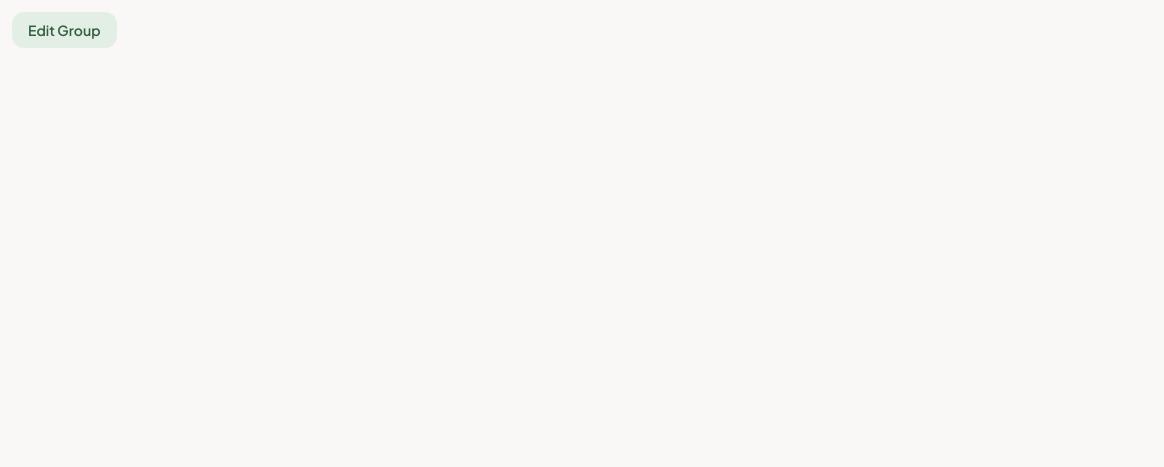
Scenario: Group metadata editing › retains editor and displays backend errors
Step 1. Click the button "Edit Group" → click(64, 30), box [12, 12, 116, 48]
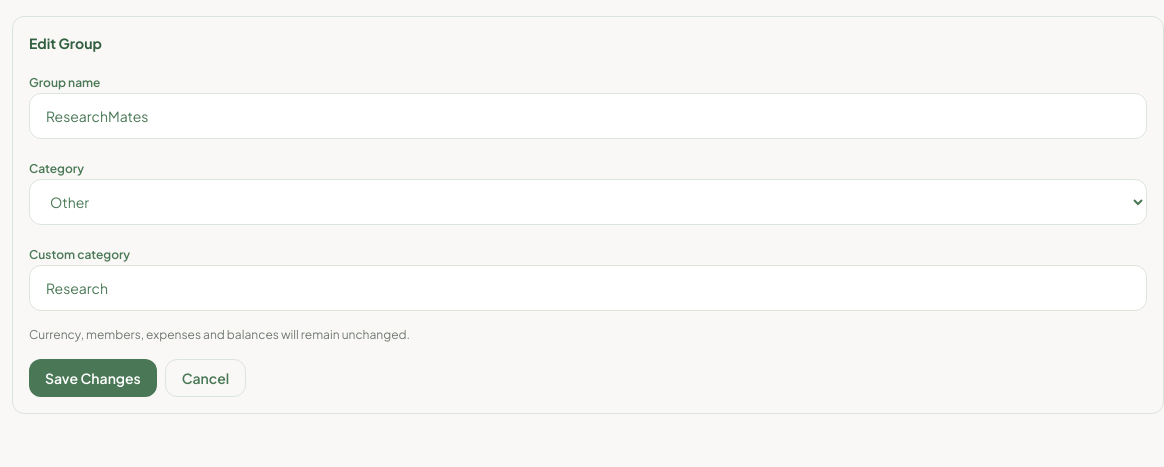
Step 2. Click the button "Save Changes" → click(93, 378), box [29, 359, 157, 397]
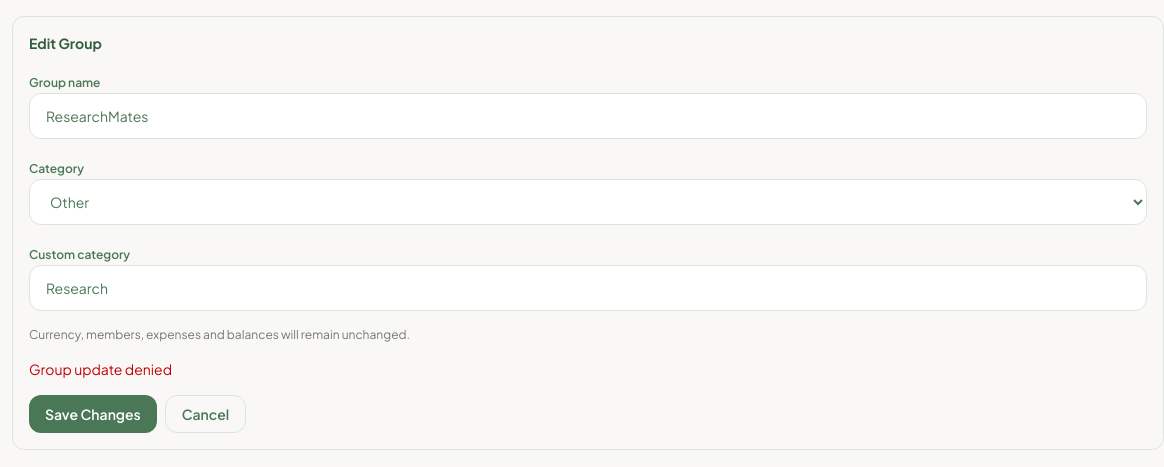
Expected: the field labelled "Group name" is shown, [29, 93, 1147, 139]
Expected: the message reads "Group update denied", [29, 360, 172, 378]
